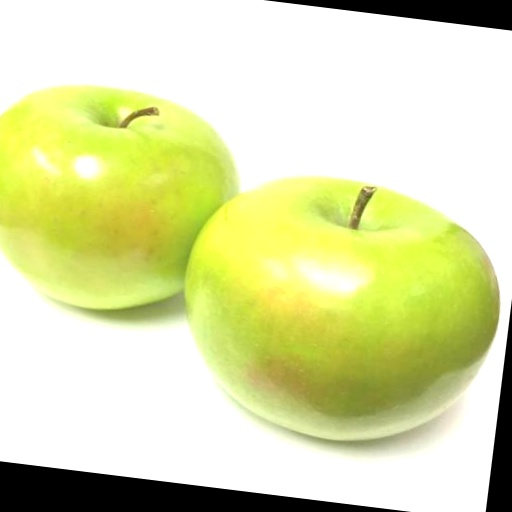fruit: (184, 176, 498, 440), (0, 85, 238, 308)
